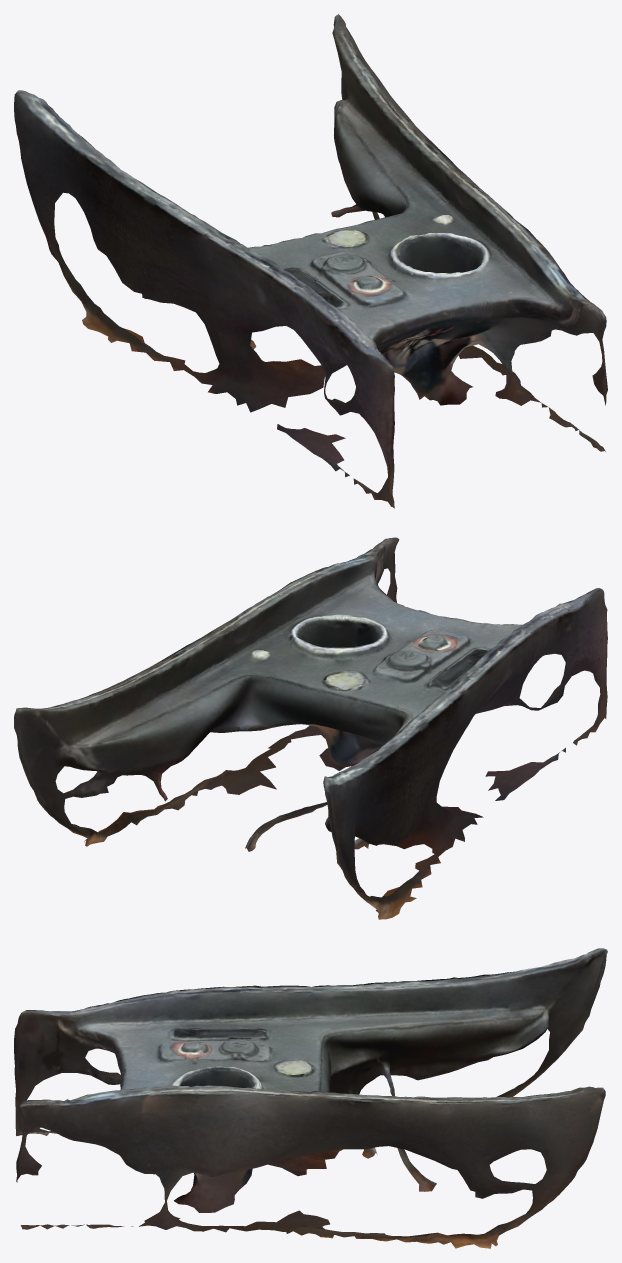
The model's file is panel_scan_modelframe.glb.
3 views of the same model, one above another, from view 1: azimuth 30°, elevation 25°; view 2: azimuth 150°, elevation 25°; view 3: azimuth 270°, elevation 25° (orthographic). The views are drawn at different scales.
Parts seen in each view (by area): view 1: panel_scan; view 2: panel_scan; view 3: panel_scan.
Part boxes in pixels (x1,y1,x2,y2): panel_scan: (14, 14, 607, 508); panel_scan: (14, 537, 607, 919); panel_scan: (14, 948, 607, 1248).
Bounding box in the file's own units: 0.3266 × 0.1778 × 0.5677.
1 material, 1 textured.
